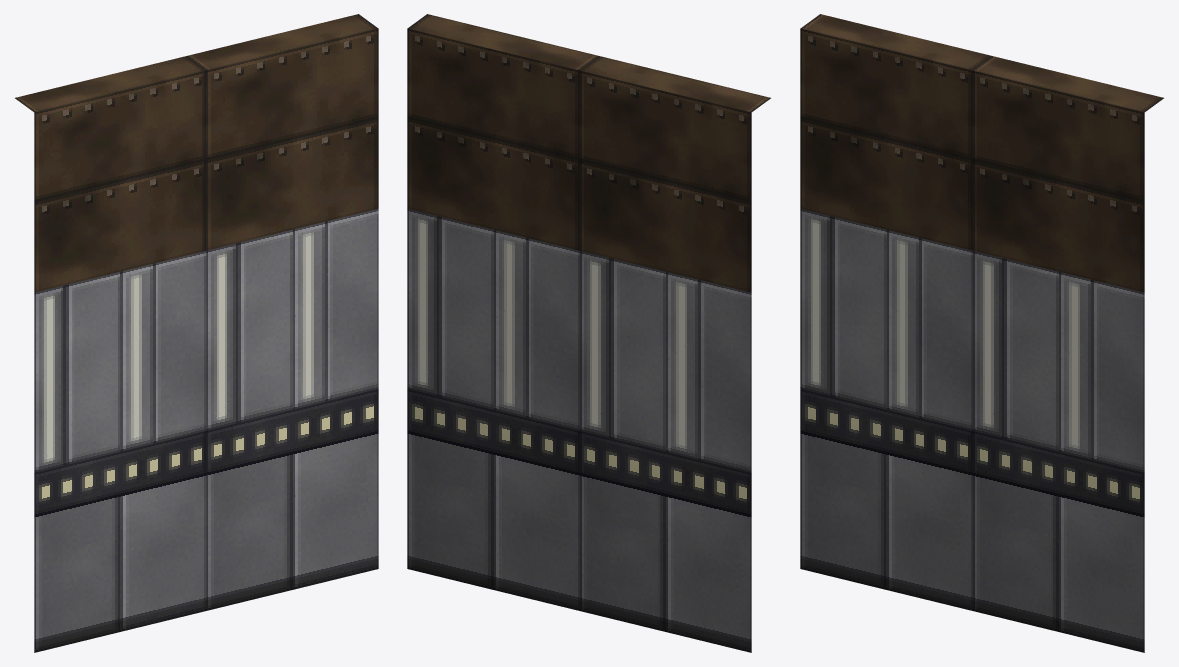
The model's file is wall_tech_lights.glb.
3 renders of one model, left to right at view 1: azimuth 30°, elevation 25°; view 2: azimuth 150°, elevation 25°; view 3: azimuth 330°, elevation 25°, orthographic.
Visible parts, largest first — view 1: wall_tech_lights; view 2: wall_tech_lights; view 3: wall_tech_lights.
Boxes of the visible parts, <box> form: wall_tech_lights: <box>15,14,378,652</box>; wall_tech_lights: <box>407,14,770,652</box>; wall_tech_lights: <box>800,14,1163,652</box>.
Bounding box in the file's own units: 2 × 3 × 0.2.
Materials: 1 (1 with a texture image).
